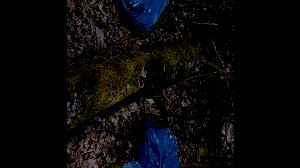Plastic: (118, 118, 183, 167)
